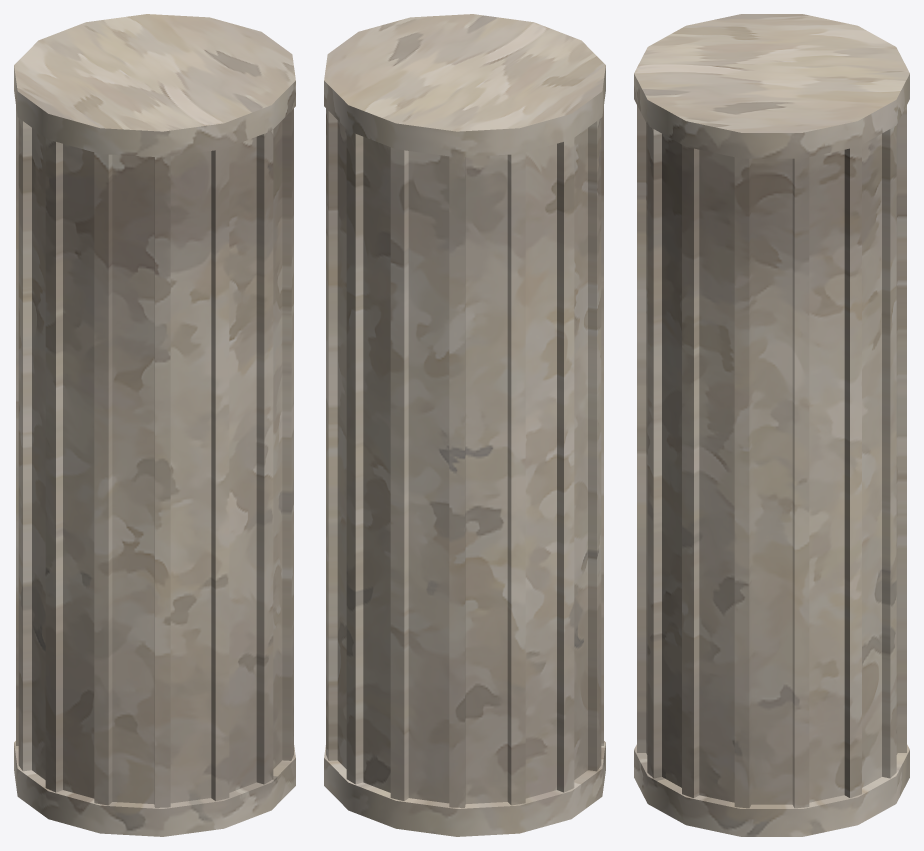
File: kolumna_1_srodek.obj
3 views of the same model, side by side, from view 1: azimuth 30°, elevation 25°; view 2: azimuth 150°, elevation 25°; view 3: azimuth 270°, elevation 25° (orthographic).
Parts seen in each view (by area): view 1: Cylinder.015; view 2: Cylinder.015; view 3: Cylinder.015.
Boxes of the visible parts, x1,y1,x2,y2 form: Cylinder.015: (14,14,295,836); Cylinder.015: (324,14,605,836); Cylinder.015: (634,14,909,836).
Bounding box in the file's own units: 4.85 × 13.39 × 4.76.
Materials: 1 (1 with a texture image).
